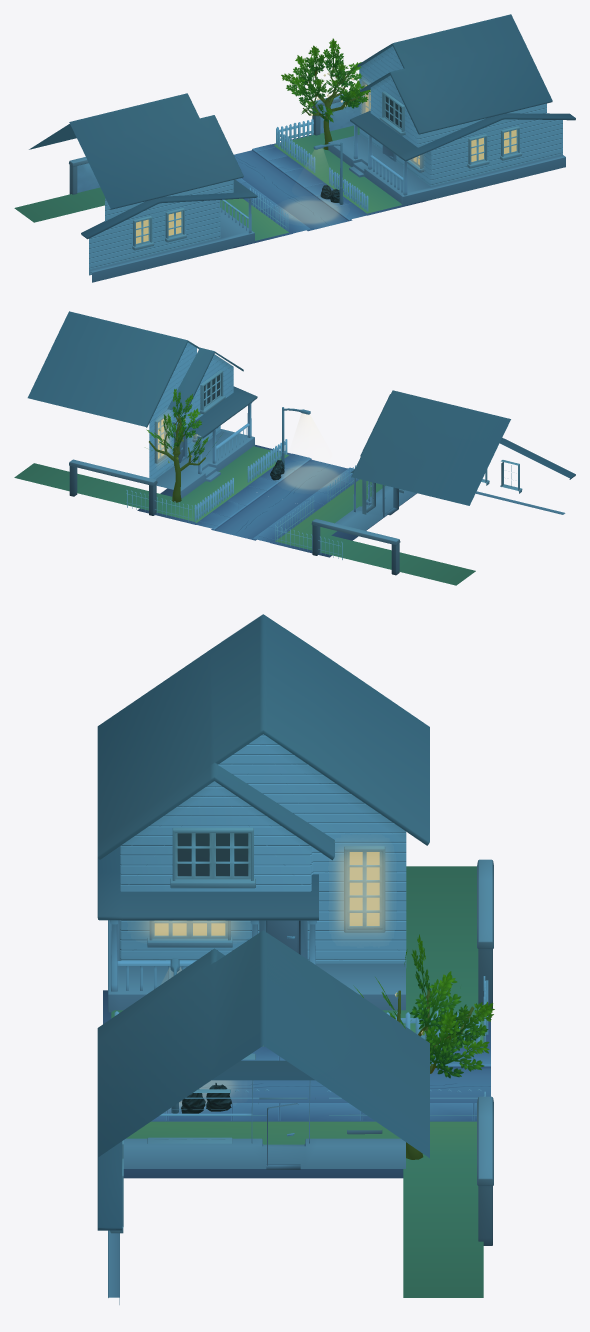
Rendered from SuburbsHouse01.prefab.glb.
3 renders of one model, top to bottom at view 1: azimuth 30°, elevation 25°; view 2: azimuth 150°, elevation 25°; view 3: azimuth 270°, elevation 25°, orthographic. The views are drawn at different scales.
Visible parts, largest first — view 1: House (1), House, Tree01, SuburbsHouse01, Road02, LightPool, PlasteredWall01 (4), PlasteredWall01 (1), WoodFence02 (3), WoodFence02 (2), WoodFence02 (4), WoodFence02 (1); view 2: House (1), House, Road02, SuburbsHouse01, Tree01, PlasteredWall01 (1), PlasteredWall01 (4), LightPool, WoodFence02 (3), WoodFence02 (2), WoodFence02, WoodFence02 (5) (+2 smaller); view 3: House, House (1), Road02, Tree01, SuburbsHouse01, LightGlowPlane (1), PlasteredWall01 (4), PlasteredWall01 (1), LightGlowPlane.
Boxes of the visible parts, left/top/right/bottom form: House (1): left=274, top=14, right=575, bottom=213; House: left=14, top=93, right=288, bottom=282; Tree01: left=281, top=38, right=370, bottom=149; SuburbsHouse01: left=233, top=180, right=425, bottom=247; Road02: left=234, top=135, right=320, bottom=194; LightPool: left=281, top=199, right=340, bottom=223; PlasteredWall01 (4): left=312, top=94, right=359, bottom=135; PlasteredWall01 (1): left=69, top=157, right=99, bottom=194; WoodFence02 (3): left=276, top=128, right=315, bottom=172; WoodFence02 (2): left=329, top=167, right=368, bottom=211; WoodFence02 (4): left=276, top=119, right=313, bottom=141; WoodFence02 (1): left=250, top=187, right=288, bottom=231; House (1): left=14, top=311, right=288, bottom=522; House: left=275, top=390, right=575, bottom=585; Road02: left=137, top=488, right=377, bottom=557; SuburbsHouse01: left=243, top=445, right=416, bottom=521; Tree01: left=145, top=389, right=220, bottom=502; PlasteredWall01 (1): left=311, top=519, right=400, bottom=575; PlasteredWall01 (4): left=69, top=459, right=157, bottom=515; LightPool: left=282, top=465, right=340, bottom=489; WoodFence02 (3): left=194, top=478, right=233, bottom=522; WoodFence02 (2): left=247, top=439, right=287, bottom=482; WoodFence02: left=275, top=496, right=314, bottom=541; WoodFence02 (5): left=276, top=526, right=342, bottom=559; House: left=97, top=614, right=483, bottom=1046; House (1): left=97, top=930, right=483, bottom=1304; Road02: left=297, top=1015, right=490, bottom=1178; Tree01: left=353, top=934, right=494, bottom=1159; SuburbsHouse01: left=103, top=990, right=296, bottom=1178; LightGlowPlane (1): left=335, top=846, right=389, bottom=935; PlasteredWall01 (4): left=477, top=1096, right=493, bottom=1245; PlasteredWall01 (1): left=477, top=859, right=493, bottom=1008; LightGlowPlane: left=140, top=920, right=239, bottom=938.
Bounding box in the file's own units: 52.37 × 13.22 × 18.67.
8 materials, 7 textured.
